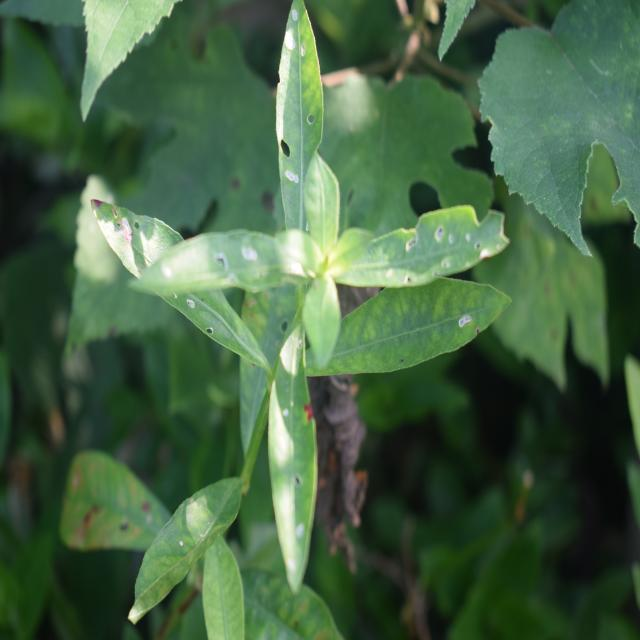Alligatorweed: (142, 46, 466, 508)
